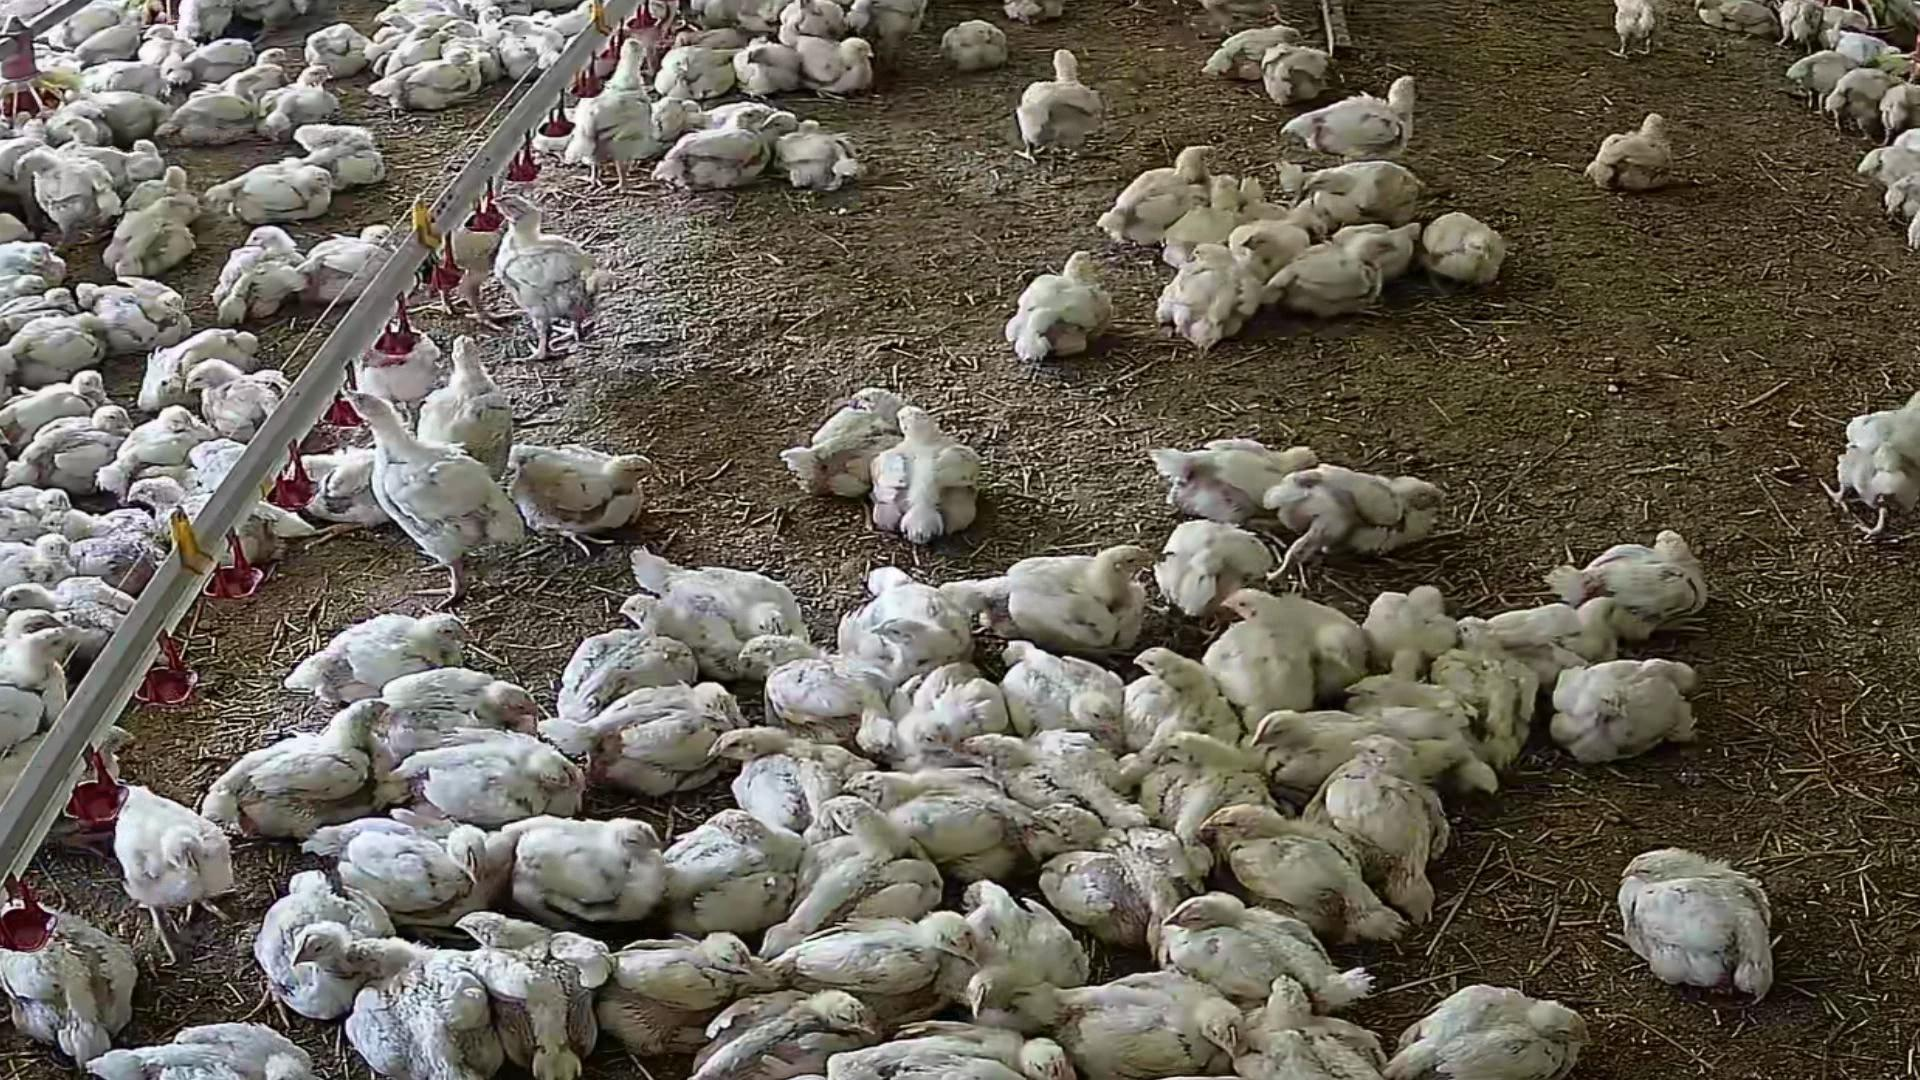poussin: (342, 390, 526, 607), (1606, 845, 1779, 1010), (1211, 804, 1402, 945), (462, 907, 618, 1075), (204, 699, 394, 833), (546, 676, 745, 804), (1168, 886, 1362, 1009), (344, 934, 508, 1079), (1323, 728, 1444, 920), (1251, 462, 1455, 572), (245, 874, 400, 1018), (1544, 644, 1729, 761), (1215, 580, 1362, 727), (0, 891, 121, 1068), (113, 785, 237, 956), (489, 807, 674, 919), (1048, 971, 1242, 1076), (310, 811, 483, 928), (963, 542, 1150, 650), (738, 637, 905, 758), (1042, 804, 1191, 939), (673, 803, 818, 936), (496, 191, 611, 357), (1404, 978, 1589, 1080), (1346, 667, 1494, 794), (508, 440, 669, 556), (600, 920, 761, 1029), (1222, 978, 1395, 1079), (282, 607, 469, 699), (793, 910, 977, 1004), (874, 398, 990, 538), (975, 731, 1137, 829), (397, 741, 596, 822), (856, 764, 1017, 862), (959, 876, 1069, 1018), (798, 800, 934, 916), (1448, 589, 1623, 679), (698, 982, 868, 1075), (1560, 524, 1705, 632), (798, 371, 918, 500), (84, 1014, 318, 1080), (640, 542, 807, 633), (720, 724, 853, 835), (997, 625, 1118, 746), (823, 1021, 1081, 1077), (1147, 496, 1274, 611), (831, 564, 969, 667), (558, 618, 700, 717), (377, 674, 546, 756), (8, 716, 135, 822), (1113, 645, 1241, 749), (1836, 386, 1920, 543), (1254, 698, 1403, 785), (1150, 427, 1313, 506), (1149, 729, 1261, 844), (1443, 611, 1531, 756), (291, 440, 422, 534), (1006, 249, 1112, 364), (413, 208, 510, 332), (434, 326, 509, 485), (628, 595, 771, 678), (1101, 144, 1217, 245), (46, 501, 174, 592), (891, 658, 1006, 758), (309, 222, 413, 327), (1364, 567, 1447, 696), (1287, 75, 1419, 156), (9, 580, 141, 657), (345, 303, 439, 410), (12, 406, 138, 484), (0, 603, 76, 731), (1271, 236, 1396, 314), (658, 107, 765, 195), (588, 41, 651, 182), (207, 229, 297, 327), (144, 327, 258, 401), (1164, 248, 1254, 340), (1280, 160, 1423, 218), (1018, 50, 1096, 156), (187, 353, 281, 438), (767, 108, 860, 193), (165, 71, 261, 148), (1581, 111, 1675, 189), (24, 152, 108, 237), (0, 311, 115, 373), (381, 44, 485, 111), (1423, 208, 1505, 290), (80, 284, 190, 344), (0, 367, 104, 429), (116, 200, 190, 287), (116, 400, 218, 460), (1196, 22, 1299, 80), (852, 0, 931, 75), (214, 170, 326, 222), (306, 125, 396, 189), (1228, 215, 1313, 281), (673, 98, 793, 144), (258, 66, 335, 137), (125, 167, 203, 235), (796, 36, 885, 94), (1329, 224, 1425, 277), (61, 123, 136, 190), (63, 87, 164, 137), (79, 7, 156, 70), (612, 95, 709, 144), (935, 20, 1022, 74), (1847, 136, 1920, 200), (1261, 36, 1328, 103), (0, 109, 53, 195), (1825, 74, 1891, 140), (170, 36, 256, 84), (42, 102, 108, 165), (1166, 202, 1233, 261), (225, 50, 294, 103), (0, 538, 86, 580), (303, 28, 381, 74), (736, 41, 794, 102), (1795, 50, 1847, 116), (665, 51, 741, 94), (79, 65, 165, 102), (61, 0, 120, 53), (1696, 0, 1775, 38), (0, 236, 69, 280), (378, 26, 438, 76), (531, 108, 589, 156), (1607, 0, 1654, 57), (504, 17, 562, 62), (1188, 0, 1284, 26), (778, 0, 848, 36), (228, 0, 310, 30), (0, 480, 75, 513), (105, 141, 165, 182), (136, 24, 196, 61), (705, 0, 779, 30), (1838, 33, 1908, 63), (679, 29, 756, 55), (0, 289, 78, 314), (175, 0, 236, 32), (1785, 0, 1824, 50), (1884, 78, 1919, 133), (651, 0, 699, 40), (1002, 0, 1077, 22), (0, 505, 45, 542), (1822, 7, 1874, 36), (1888, 182, 1920, 225), (556, 4, 600, 33), (0, 214, 40, 243), (0, 273, 54, 294), (384, 3, 465, 15), (376, 12, 425, 32), (476, 5, 508, 34), (443, 18, 484, 37), (1904, 220, 1920, 258)
